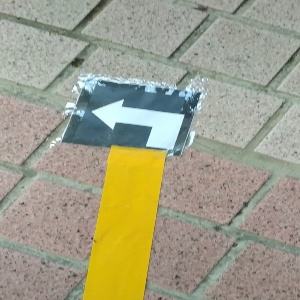left: (64, 80, 203, 155)
